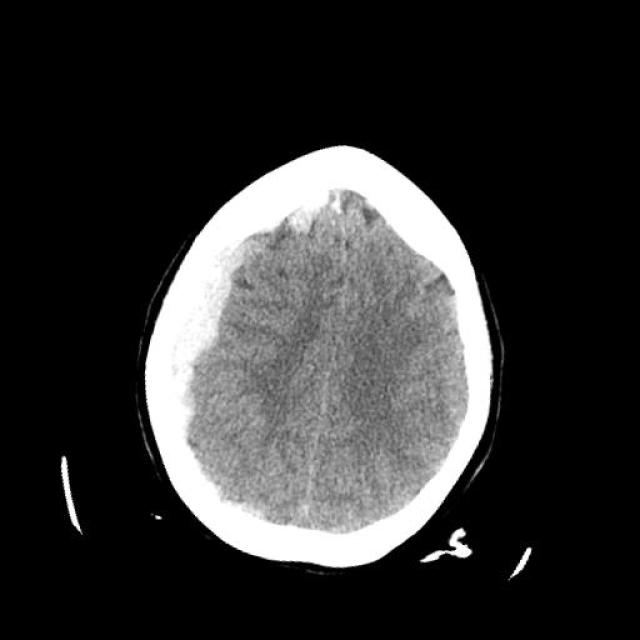Subdural: (95, 202, 263, 520)
